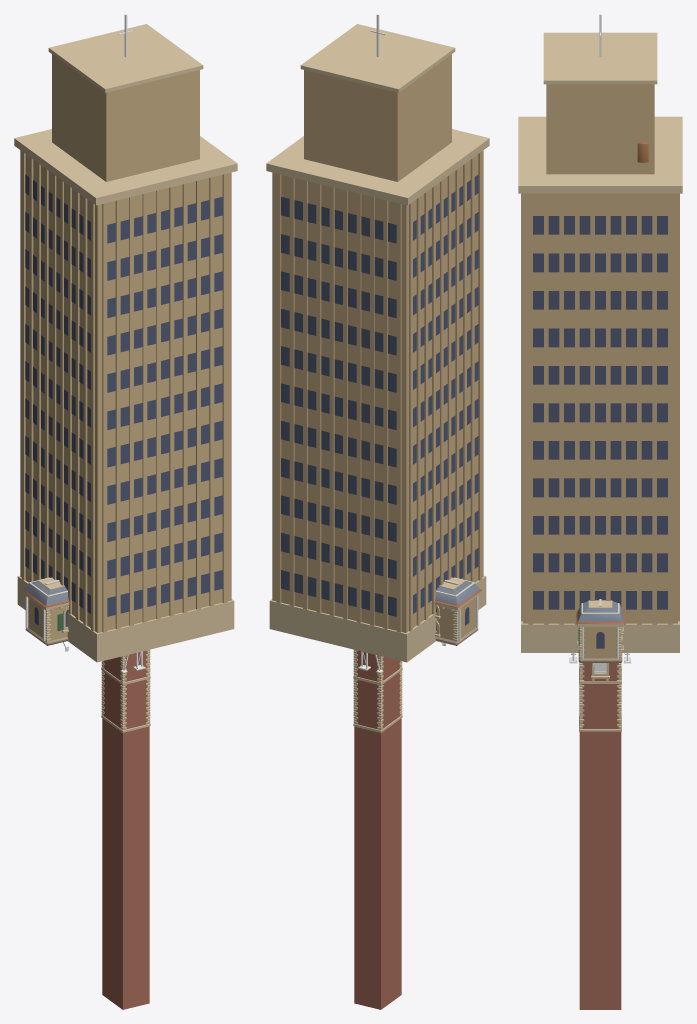
The model's file is Kit.fbx.
3 views of the same model, side by side, from view 1: azimuth 30°, elevation 25°; view 2: azimuth 150°, elevation 25°; view 3: azimuth 270°, elevation 25° (orthographic).
Visible parts, largest first — view 1: CityC_Wall, CityC_Window, CityC_Stone, Flue_Brick, Flue_Stone, PenthouseA_Wall, PenthouseB_RoofSlate, PenthouseA_Stone; view 2: CityC_Wall, CityC_Window, CityC_Stone, Flue_Brick, Flue_Stone, PenthouseA_Wall, PenthouseB_RoofSlate, PenthouseA_Stone; view 3: CityC_Wall, CityC_Window, CityC_Stone, Flue_Brick, Flue_Stone, PenthouseA_Wall, PenthouseB_RoofSlate, PenthouseA_Stone.
Boxes of the visible parts, x1,y1,x2,y2 form: CityC_Wall: (20, 54, 231, 632); CityC_Window: (25, 174, 222, 616); CityC_Stone: (14, 24, 237, 662); Flue_Brick: (102, 650, 149, 1009); Flue_Stone: (101, 649, 150, 732); PenthouseA_Wall: (28, 598, 67, 640); PenthouseB_RoofSlate: (24, 581, 68, 605); PenthouseA_Stone: (22, 578, 69, 641); CityC_Wall: (272, 54, 483, 632); CityC_Window: (281, 174, 478, 616); CityC_Stone: (266, 24, 489, 662); Flue_Brick: (354, 650, 401, 1009); Flue_Stone: (353, 649, 402, 732); PenthouseA_Wall: (436, 598, 475, 640); PenthouseB_RoofSlate: (435, 581, 479, 605); PenthouseA_Stone: (434, 578, 481, 641); CityC_Wall: (521, 84, 679, 624); CityC_Window: (533, 216, 667, 609); CityC_Stone: (518, 32, 682, 652); Flue_Brick: (579, 663, 621, 1009); Flue_Stone: (579, 662, 621, 731); PenthouseA_Wall: (580, 627, 620, 658); PenthouseB_RoofSlate: (577, 601, 623, 622); PenthouseA_Stone: (577, 624, 623, 658).
Size of the model in its own units: 41.33 by 211 by 31.8.
